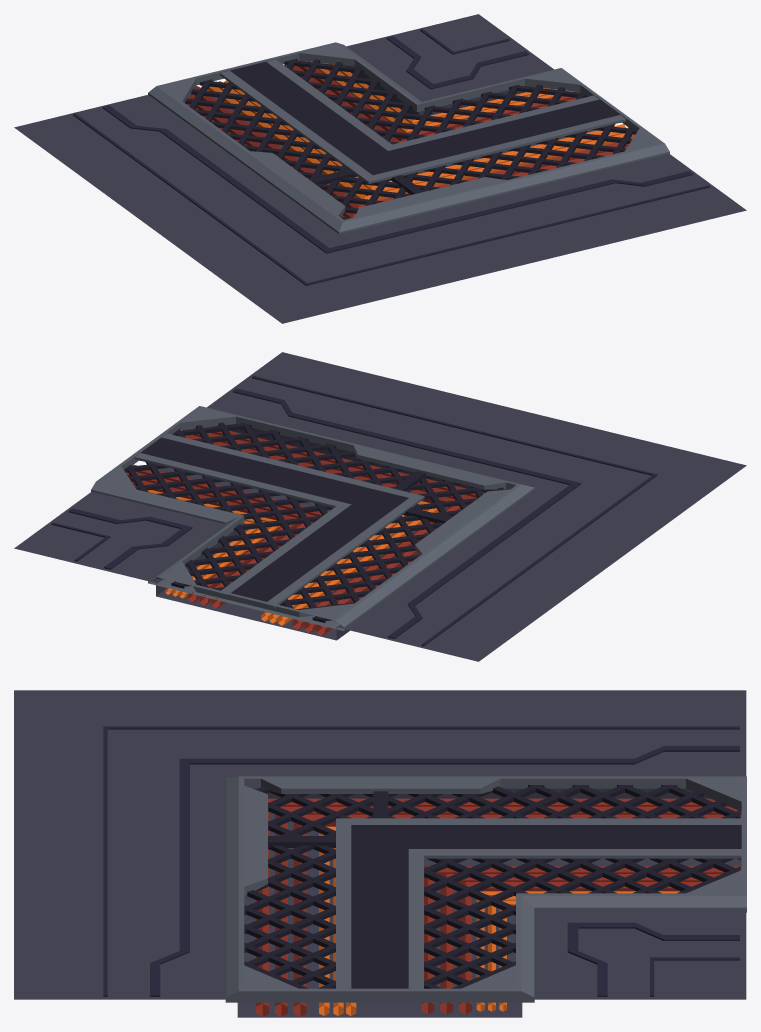
Rendered from groundWireC.fbx.
The picture shows the model from 3 angles, top to bottom: view 1: azimuth 30°, elevation 25°; view 2: azimuth 150°, elevation 25°; view 3: azimuth 270°, elevation 25°; orthographic projection. The views are drawn at different scales.
Visible parts, largest first — view 1: groundWireC; view 2: groundWireC; view 3: groundWireC.
Boxes of the visible parts, <box> form: groundWireC: <box>14,14,746,323</box>; groundWireC: <box>14,352,746,661</box>; groundWireC: <box>14,690,746,1017</box>.
Bounding box in the file's own units: 400 × 16.36 × 400.
